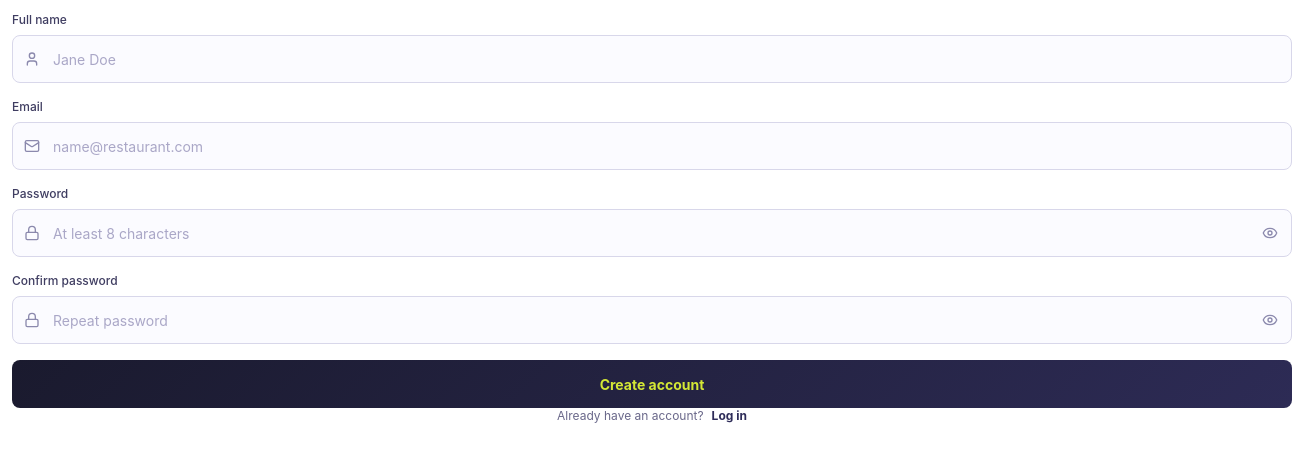
Test: RegisterView › password strength indicator › shows "Strong" for a complex password
Type "Sup3rS3cur3!" into the password field labelled "Password" at (652, 233), box [12,209,1292,257]
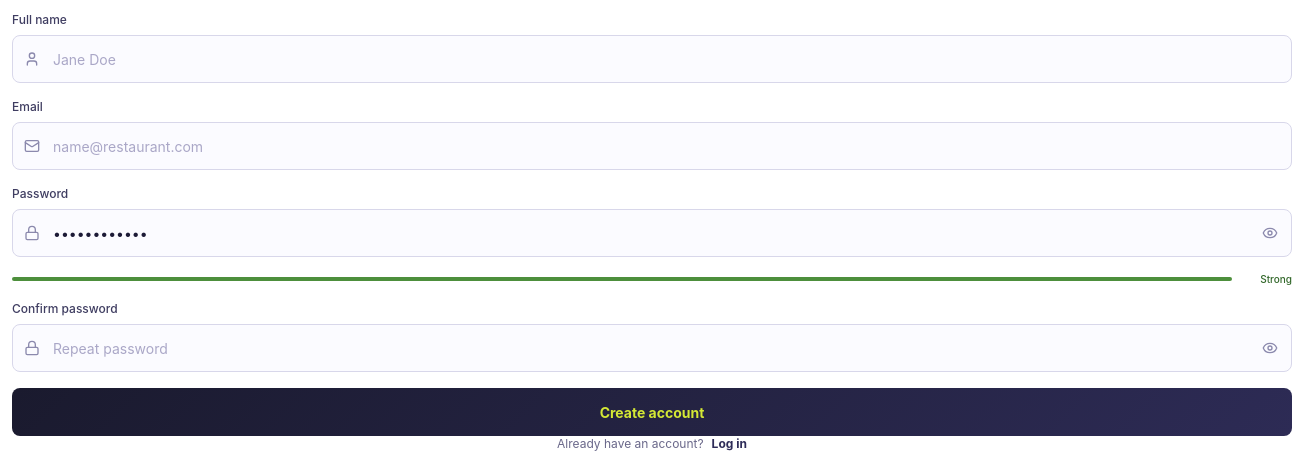
Check: the text with class "strength-label" reads "Strong", box [1260,273,1292,285]
